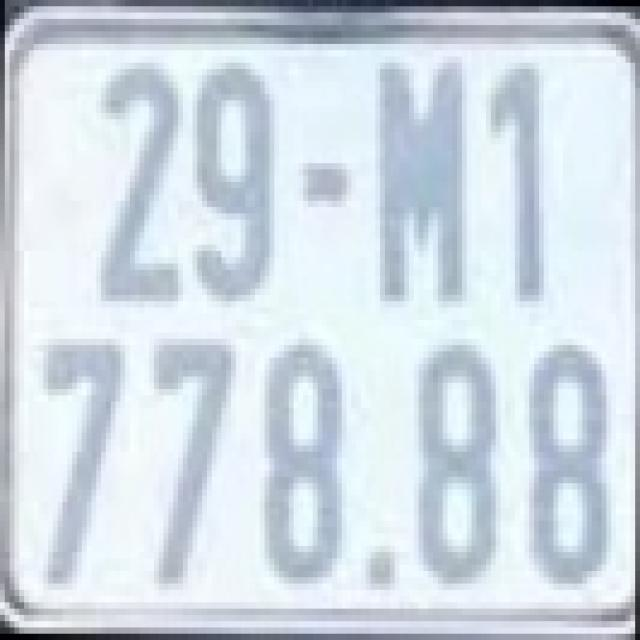1: (486, 63, 553, 307)
2: (96, 63, 188, 307)
7: (144, 332, 236, 584), (34, 332, 125, 584)
8: (260, 332, 346, 584), (414, 339, 500, 583), (529, 339, 611, 583)
9: (193, 63, 279, 301)
M: (375, 56, 467, 308)
